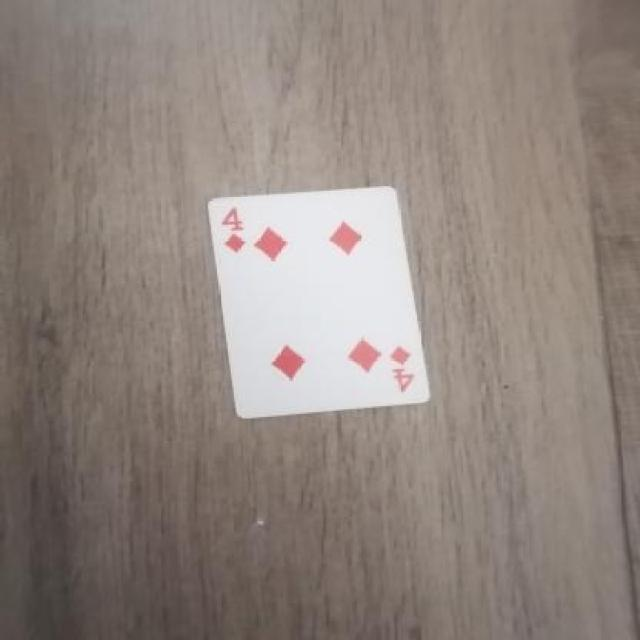4D: (213, 201, 253, 256), (390, 337, 422, 398)
